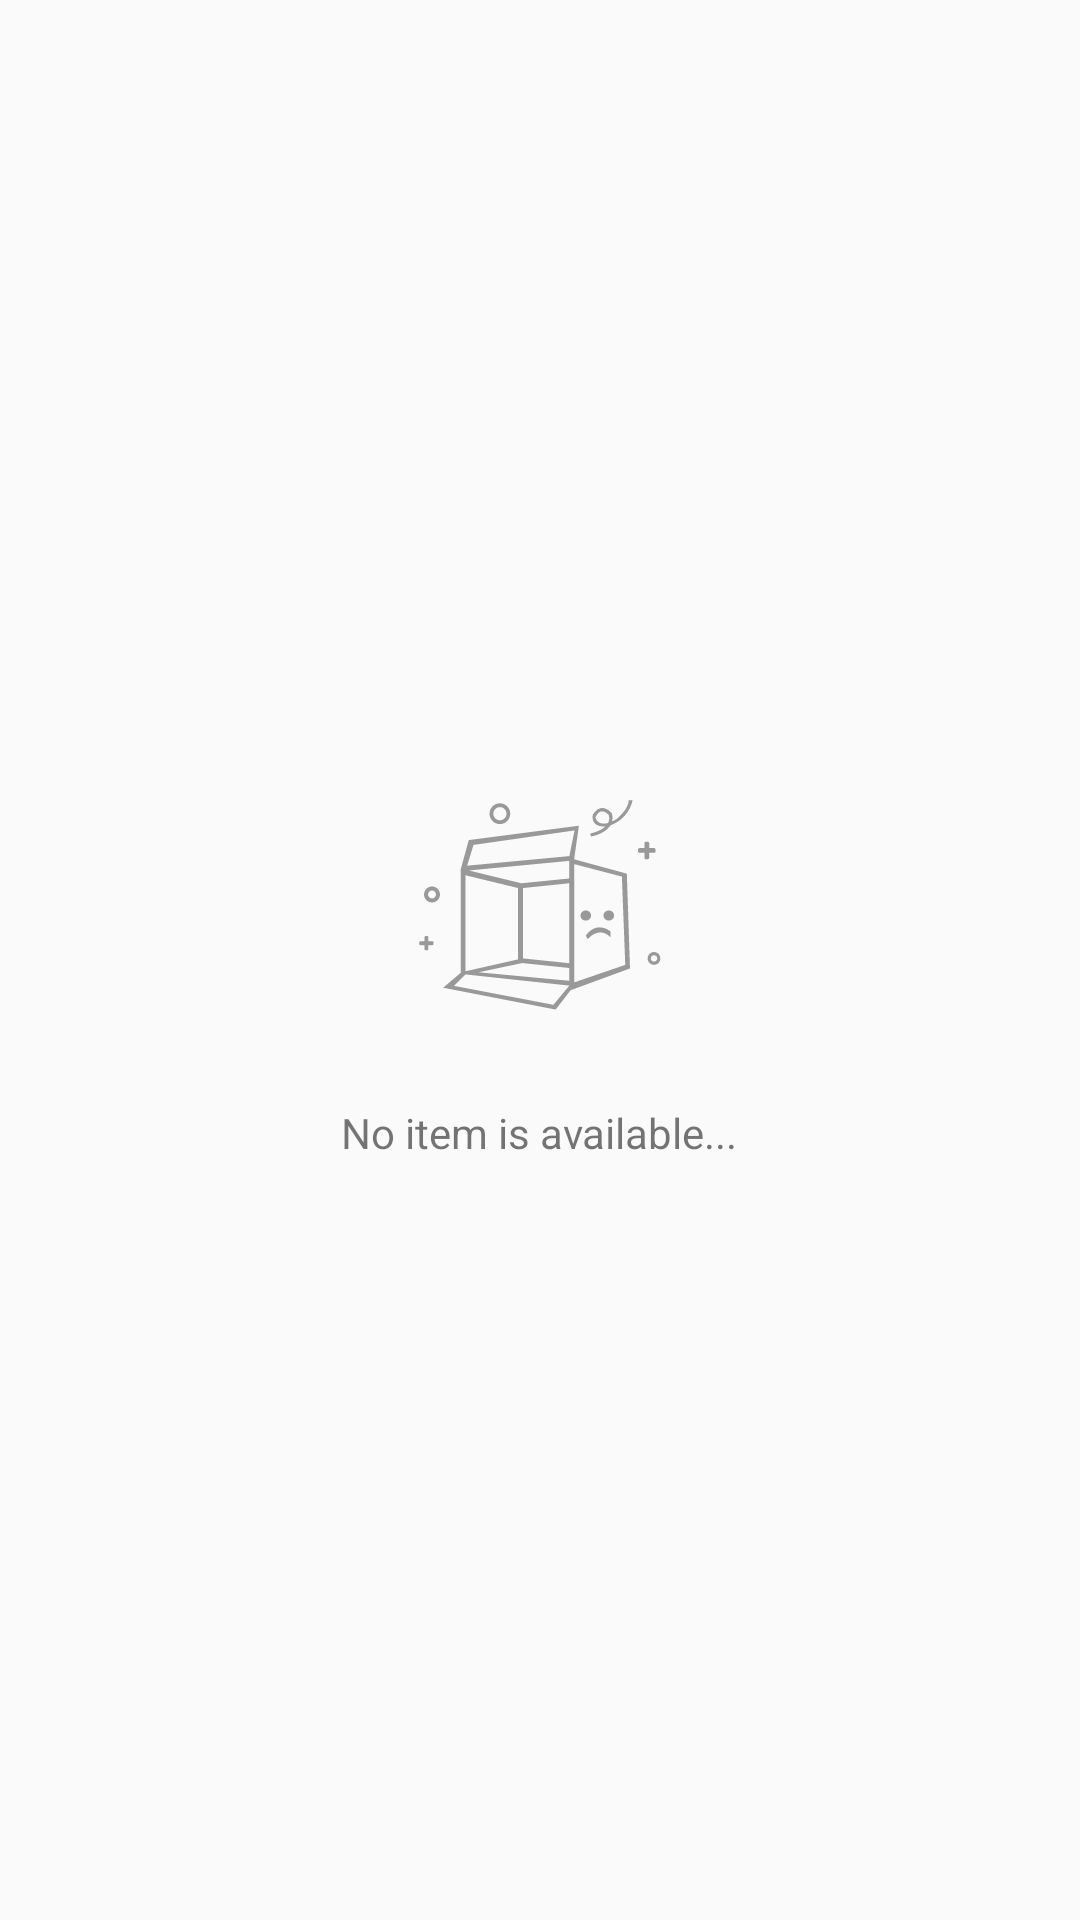

Icons on this 1080px×1920px Android screen, each with the point to tap as [x,y]:
empty: [540,905]
